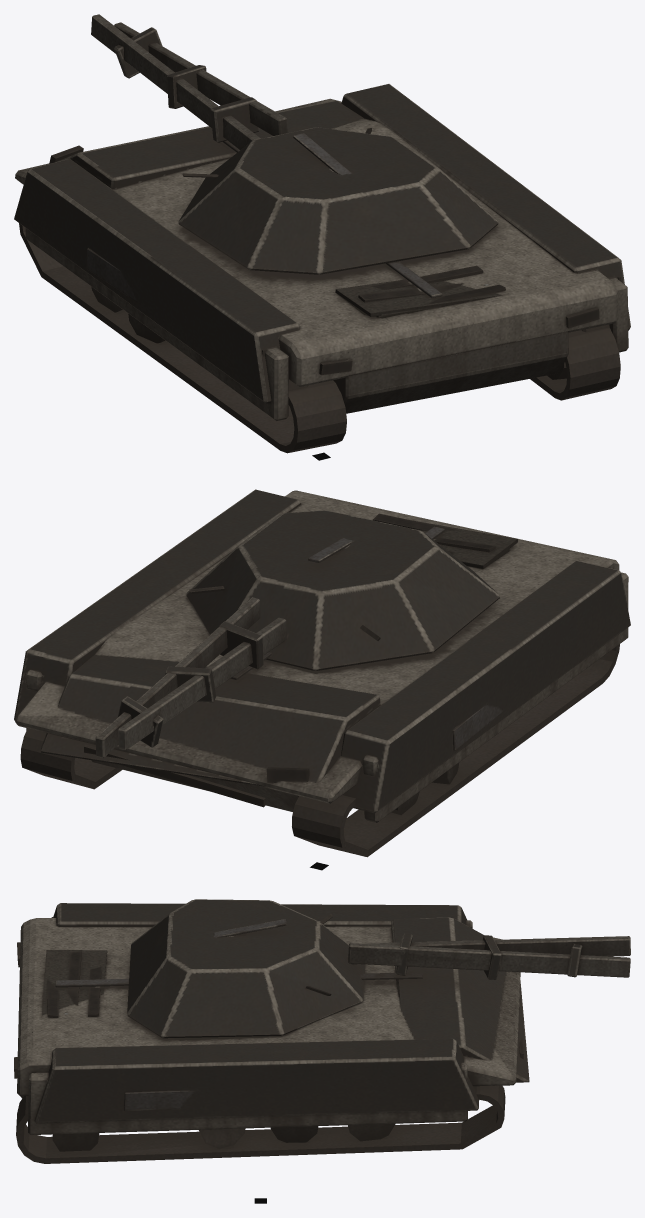
The model's file is ord_whisper_wreck.fbx.
The picture shows the model from 3 angles, top to bottom: view 1: azimuth 30°, elevation 25°; view 2: azimuth 150°, elevation 25°; view 3: azimuth 270°, elevation 25°; orthographic projection. The views are drawn at different scales.
Visible parts, largest first — view 1: base_bar, turret_bar, trackL_bar, barrel_bar, trackR_bar; view 2: base_bar, turret_bar, trackL_bar, barrel_bar, trackR_bar; view 3: base_bar, turret_bar, trackR_bar, barrel_bar.
Boxes of the visible parts, x1=… form: base_bar: x1=14, y1=84, x2=630, y2=420; turret_bar: x1=178, y1=127, x2=498, y2=274; trackL_bar: x1=19, y1=223, x2=346, y2=453; barrel_bar: x1=91, y1=14, x2=287, y2=150; trackR_bar: x1=530, y1=327, x2=620, y2=400; base_bar: x1=14, y1=489, x2=630, y2=822; turret_bar: x1=186, y1=510, x2=499, y2=670; trackL_bar: x1=292, y1=644, x2=619, y2=857; barrel_bar: x1=95, y1=597, x2=286, y2=757; trackR_bar: x1=20, y1=728, x2=122, y2=789; base_bar: x1=14, y1=903, x2=529, y2=1134; turret_bar: x1=127, y1=899, x2=365, y2=1038; trackR_bar: x1=16, y1=1085, x2=505, y2=1163; barrel_bar: x1=348, y1=933, x2=630, y2=979.
Bounding box in the file's own units: 606 × 491 × 994.
Materials: 2 (2 with a texture image).
